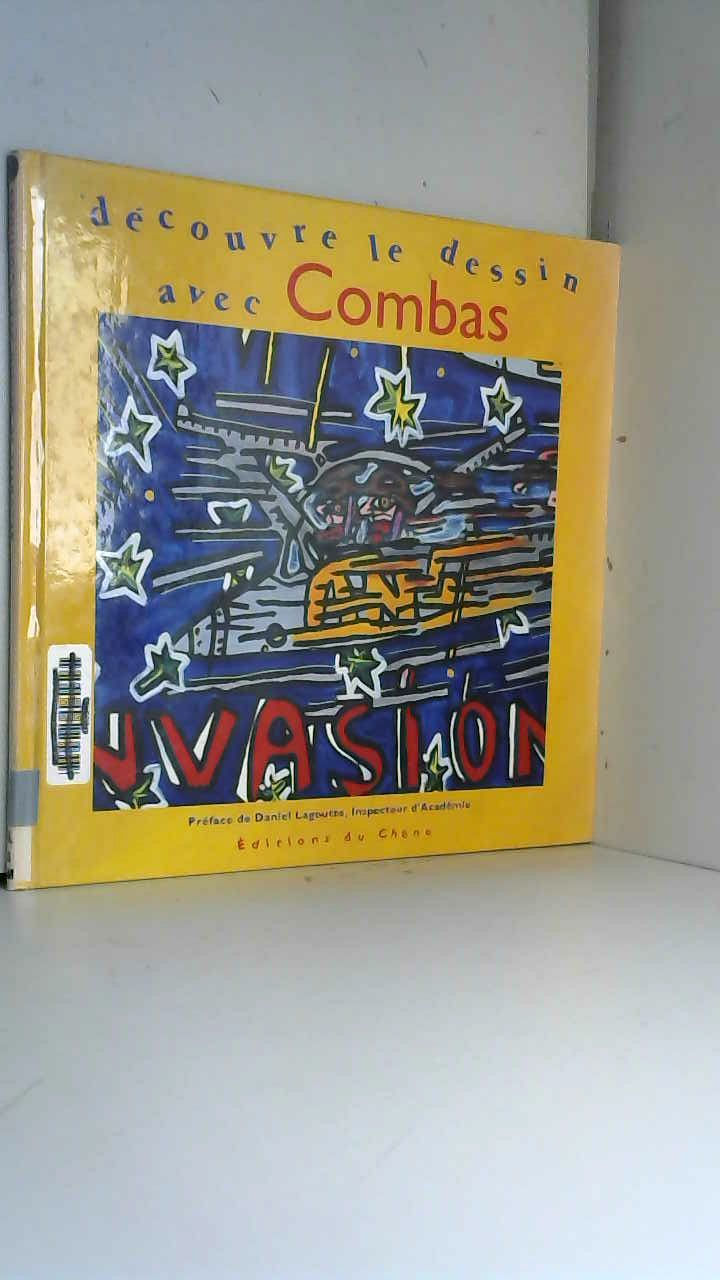book: (0, 124, 656, 913)
